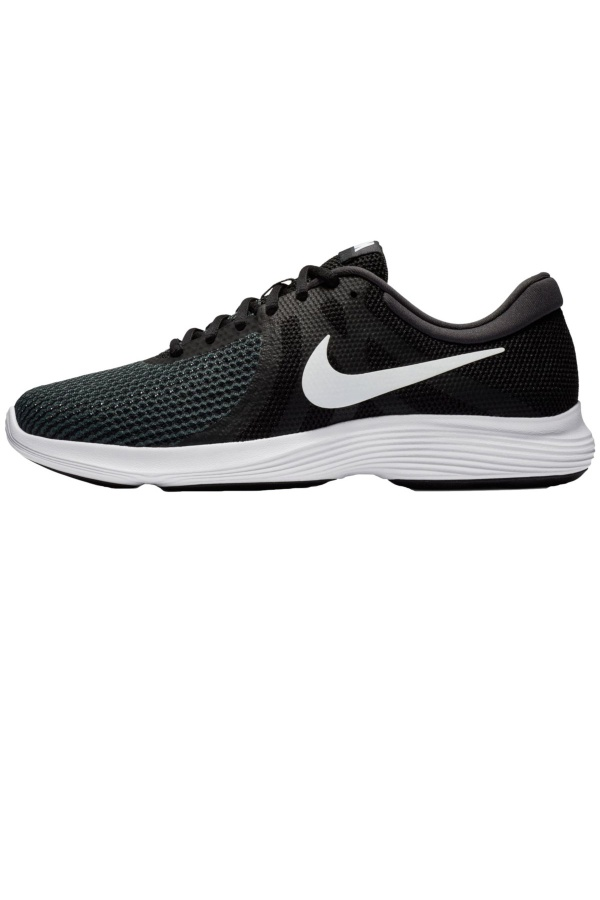nike: (279, 327, 520, 414)
